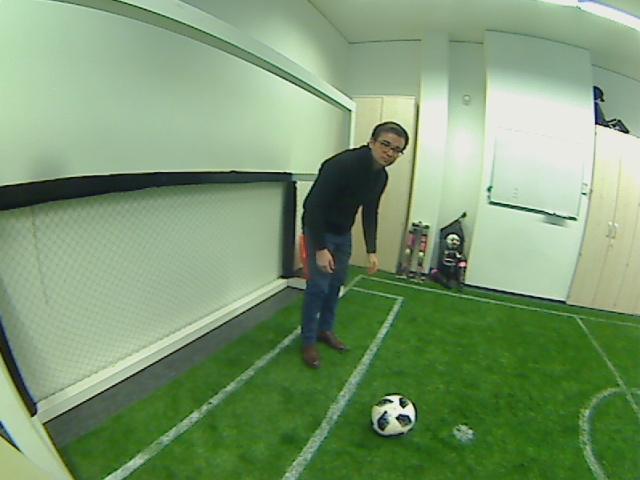ball: (368, 394, 417, 437)
